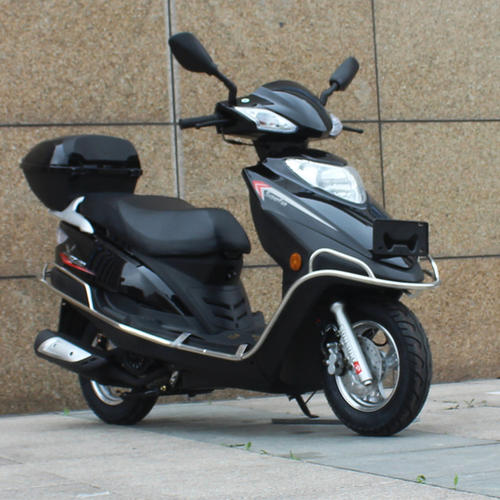motor: (48, 50, 435, 442)
